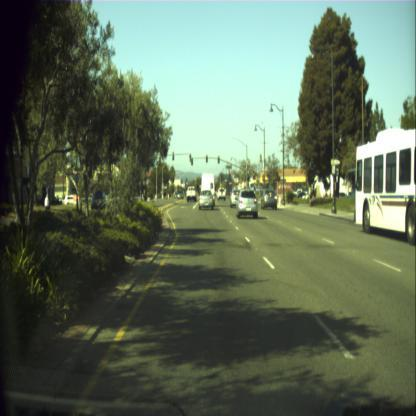Yellow: (252, 170, 254, 180)
off: (217, 156, 220, 164), (206, 154, 208, 163), (190, 157, 192, 165)
